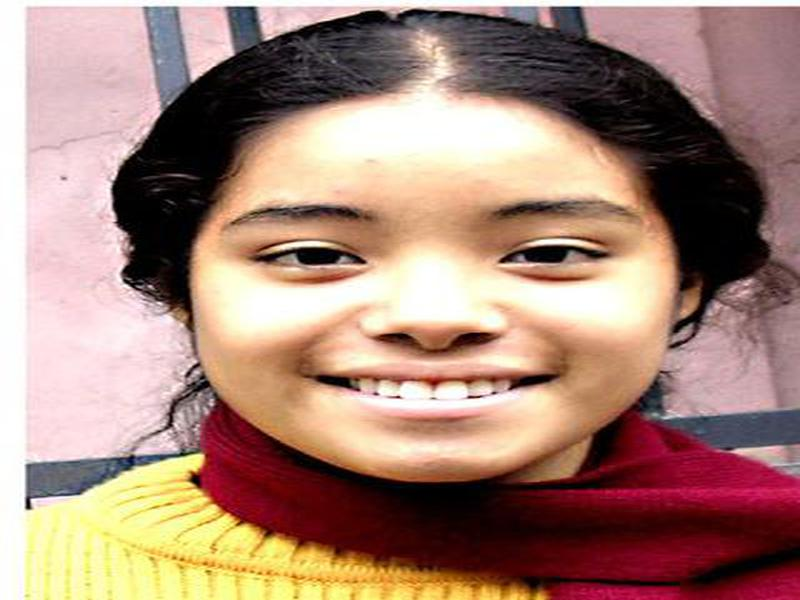without_mask: (199, 102, 683, 493)
